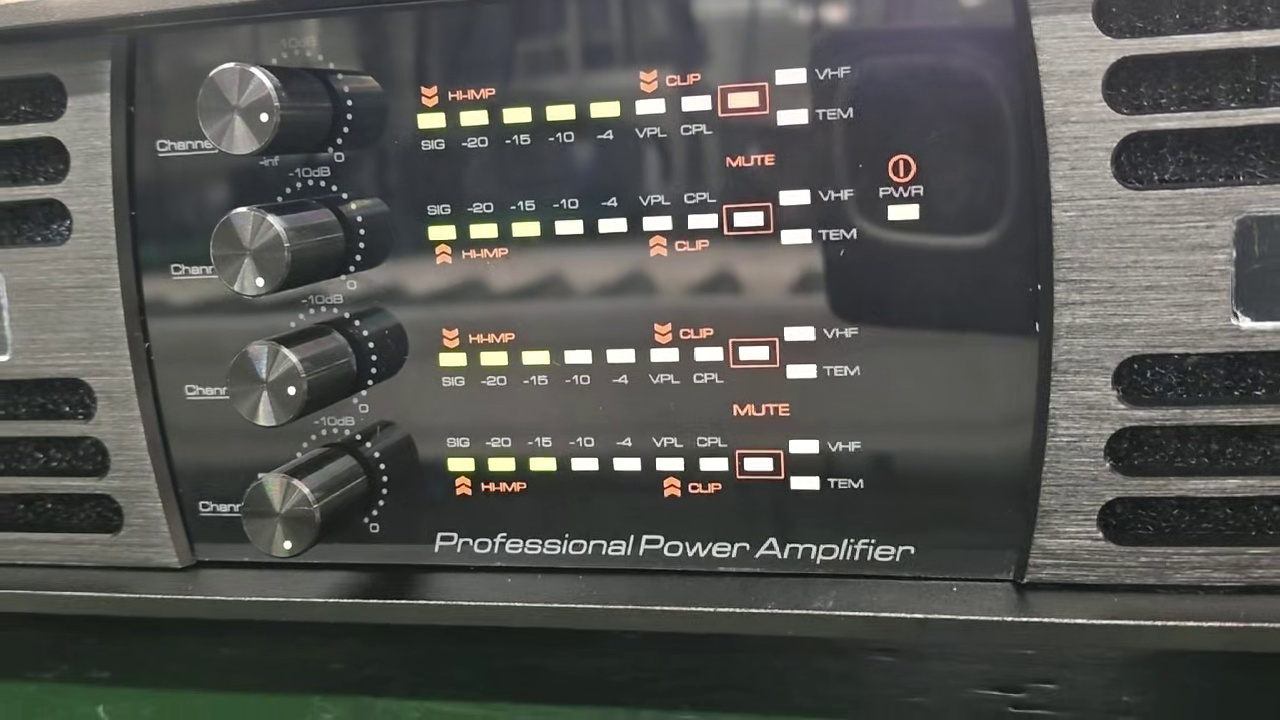FP_CPL: (674, 90, 715, 146), (689, 340, 728, 394), (692, 430, 733, 476), (681, 186, 721, 233)
FP_PWR: (877, 181, 926, 227)
FP_PWR_area: (873, 149, 929, 229)
FP_SIG_area: (413, 57, 864, 154), (436, 312, 864, 393), (422, 187, 863, 262), (439, 427, 867, 503)
FP_VPL: (629, 92, 674, 150), (645, 342, 686, 393), (637, 187, 675, 236), (652, 429, 687, 476)
